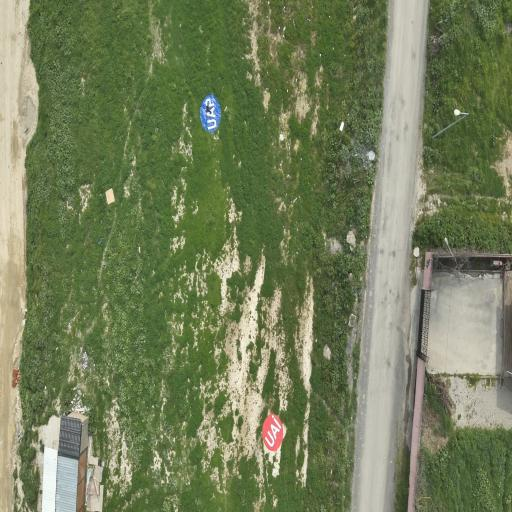person: (206, 104, 211, 114)
uai: (262, 413, 283, 451)
uap: (200, 94, 221, 132)
